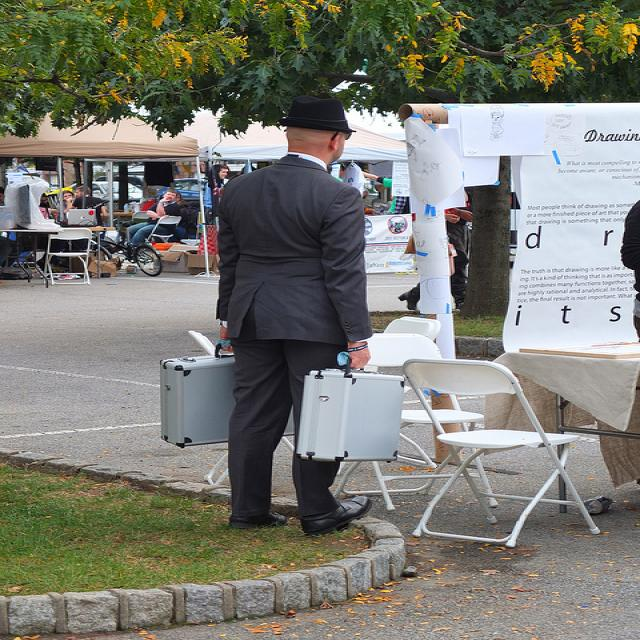Vehicle: (92, 182, 143, 200), (95, 174, 143, 189)
